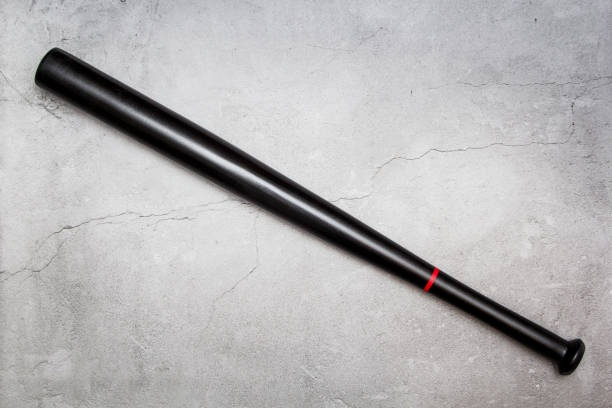bita: (35, 46, 583, 369)
